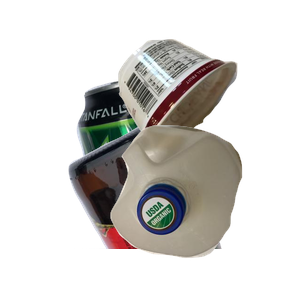glass: (66, 120, 300, 300)
metal: (74, 74, 257, 254)
plastic: (108, 123, 300, 300)
trash: (116, 36, 300, 187)
